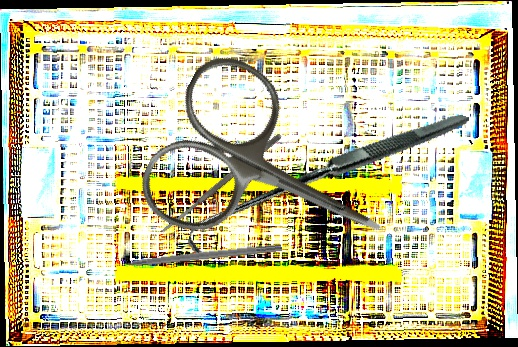Hook Surgical: (184, 46, 470, 323), (106, 241, 283, 271)
Iris Scissors: (128, 43, 420, 310)
Spatula Surgical: (157, 132, 284, 236)
